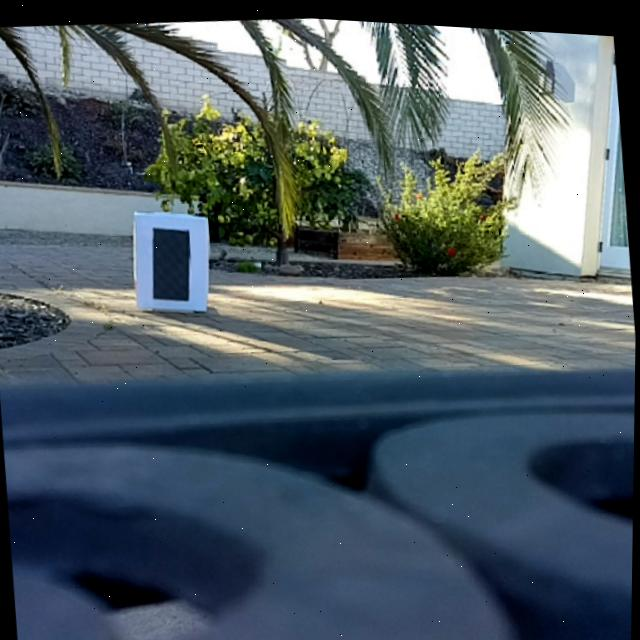led: (149, 221, 195, 302)
